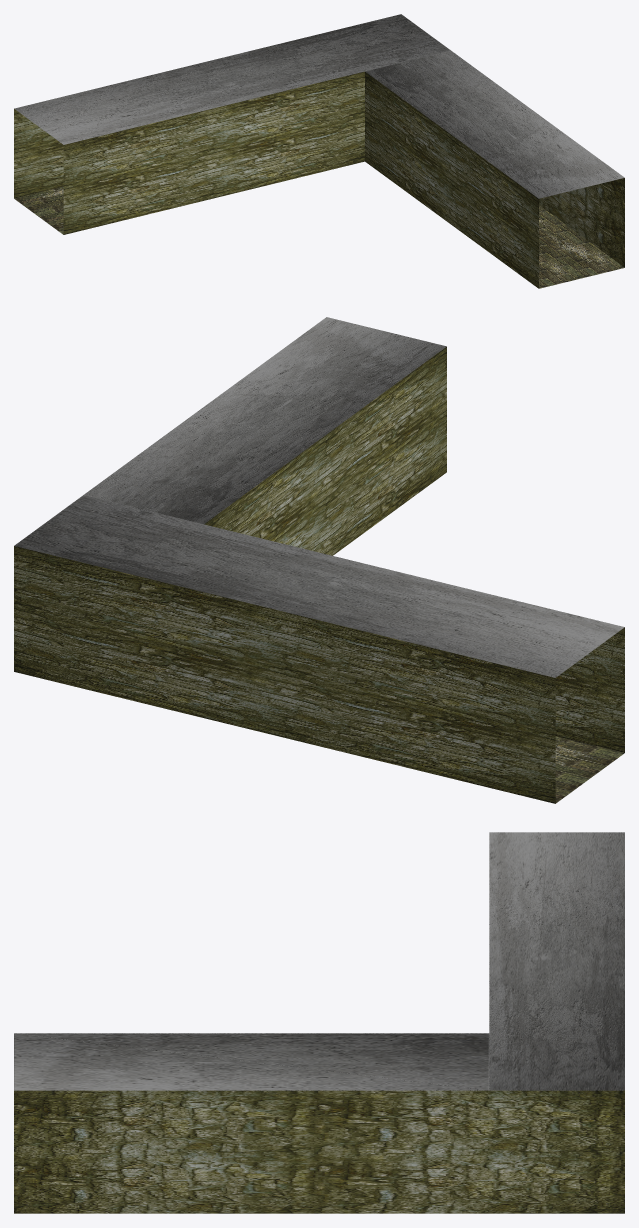
3 renders of one model, top to bottom at view 1: azimuth 30°, elevation 25°; view 2: azimuth 150°, elevation 25°; view 3: azimuth 270°, elevation 25°, orthographic. The views are drawn at different scales.
Parts seen in each view (by area): view 1: Mur_2, Toiture_1, Mur_3, Toiture_2, Mur_4, Sol_2, Mur_1, Sol_1; view 2: Mur_1, Toiture_1, Toiture_2, Mur_3, Mur_2, Sol_1; view 3: Mur_4, Toiture_1, Toiture_2.
Boxes of the visible parts, x1=… form: Mur_2: x1=63, y1=71, x2=364, y2=234; Toiture_1: x1=14, y1=14, x2=450, y2=144; Mur_3: x1=365, y1=72, x2=538, y2=288; Toiture_2: x1=365, y1=50, x2=624, y2=198; Mur_4: x1=539, y1=178, x2=624, y2=267; Sol_2: x1=539, y1=205, x2=624, y2=288; Mur_1: x1=14, y1=109, x2=63, y2=198; Sol_1: x1=14, y1=186, x2=63, y2=234; Mur_1: x1=14, y1=546, x2=555, y2=803; Toiture_1: x1=14, y1=495, x2=624, y2=677; Toiture_2: x1=84, y1=317, x2=446, y2=524; Mur_3: x1=204, y1=346, x2=446, y2=555; Mur_2: x1=555, y1=627, x2=624, y2=752; Sol_1: x1=555, y1=736, x2=624, y2=803; Mur_4: x1=14, y1=1090, x2=624, y2=1213; Toiture_1: x1=489, y1=832, x2=624, y2=1090; Toiture_2: x1=14, y1=1033, x2=489, y2=1090.
Bounding box in the file's own units: 18 × 4 × 18.
